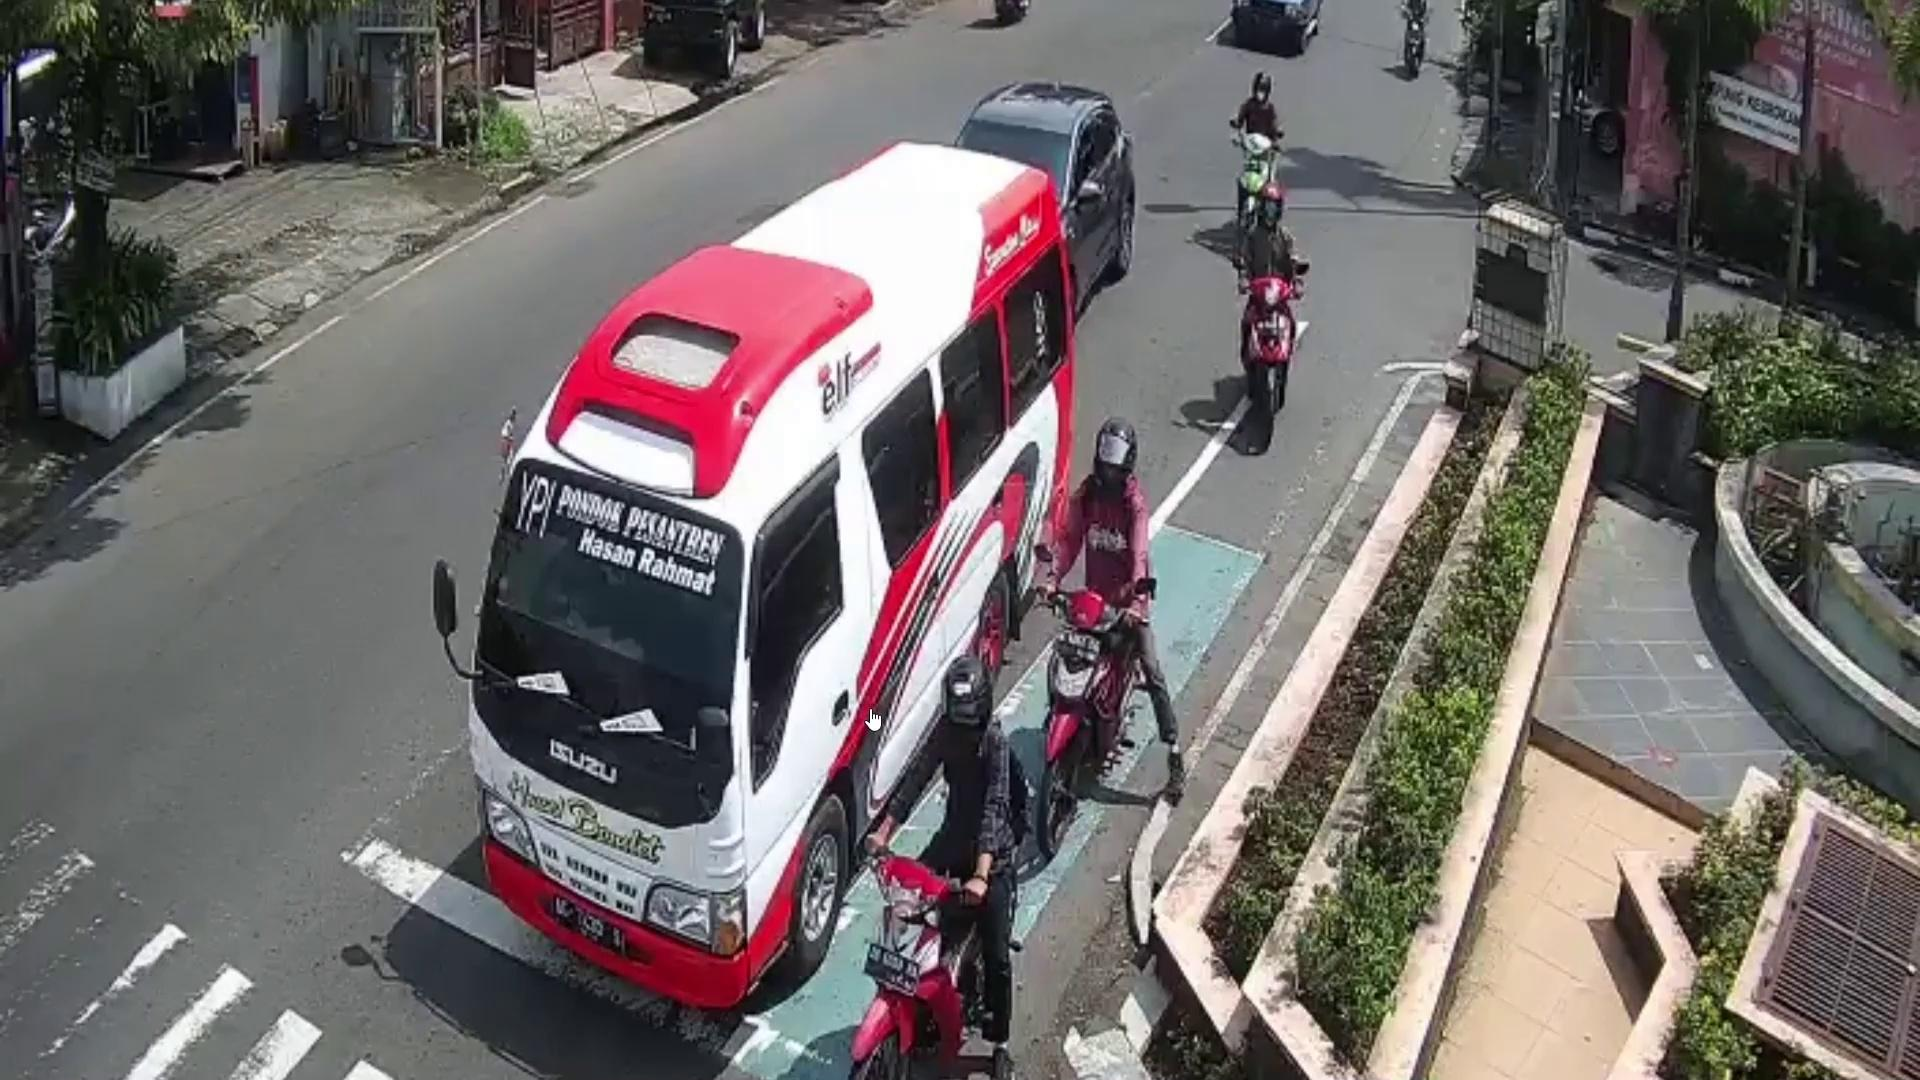bus: (471, 138, 1073, 1002)
car: (947, 87, 1130, 316), (1225, 0, 1331, 61)
motorbike: (856, 847, 997, 1080), (1047, 585, 1138, 848), (1242, 280, 1295, 452), (1229, 132, 1282, 273), (1400, 12, 1429, 82)
